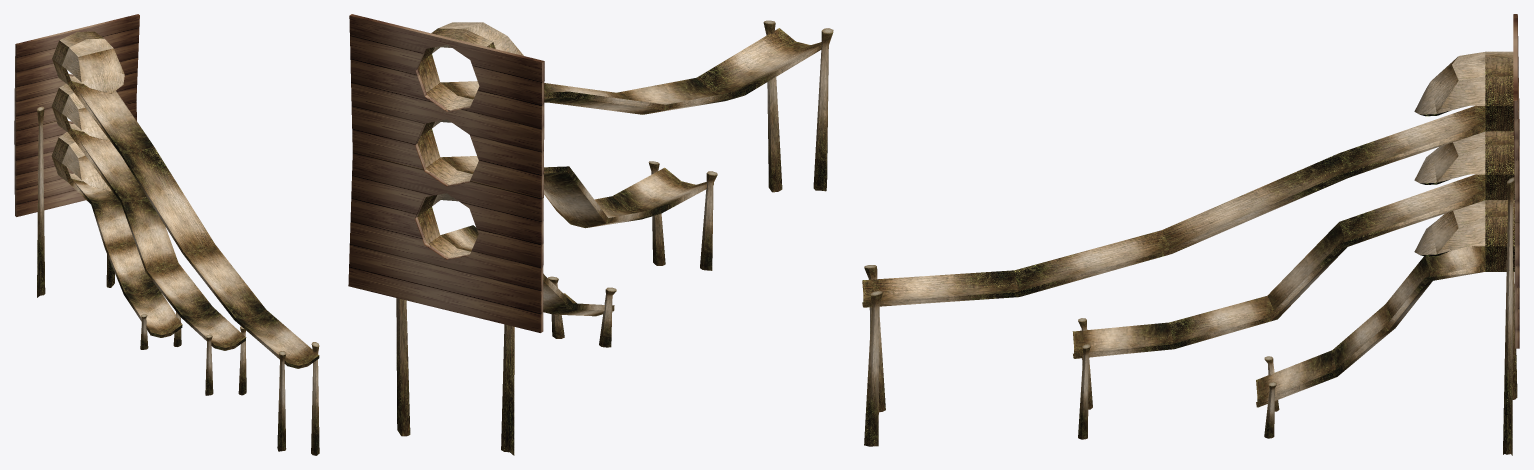
File: p2_wall3h.fbx
The picture shows the model from 3 angles, left to right: view 1: azimuth 30°, elevation 25°; view 2: azimuth 150°, elevation 25°; view 3: azimuth 270°, elevation 25°; orthographic projection. The views are drawn at different scales.
Visible parts, largest first — view 1: wall3H; view 2: wall3H; view 3: wall3H.
Boxes of the visible parts, x1,y1,x2,y2 form: wall3H: (14,14,319,455); wall3H: (348,14,833,455); wall3H: (862,14,1519,455).
Bounding box in the file's own units: 44324 × 90616 × 142281.
